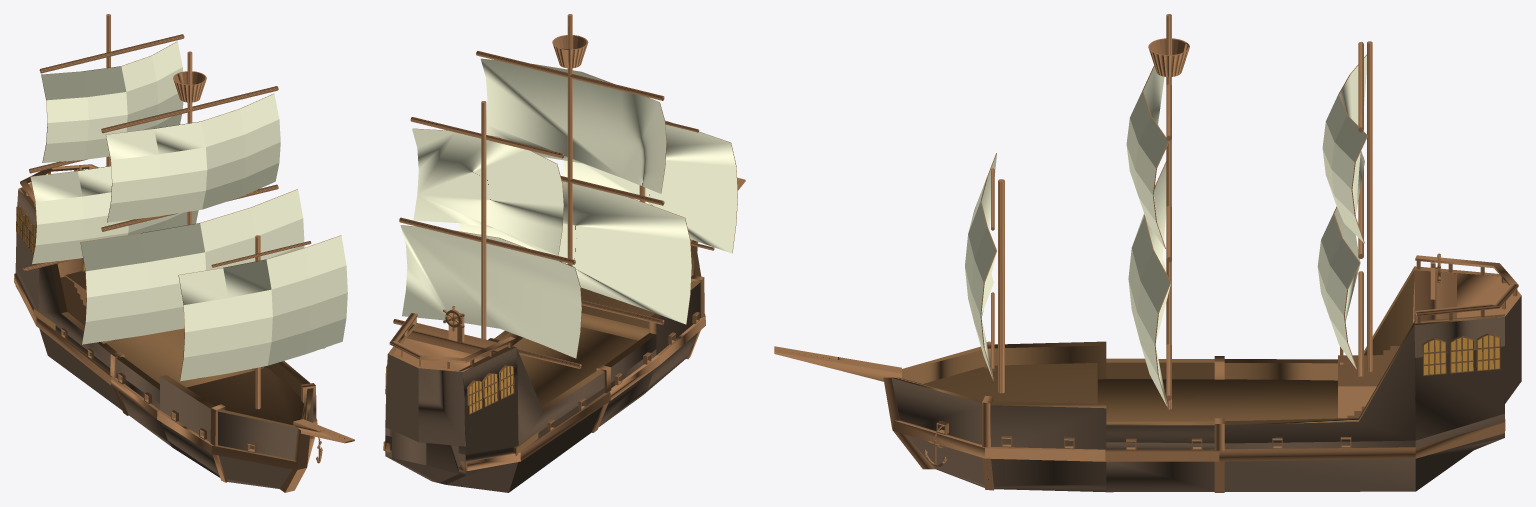
3 views of the same model, side by side, from view 1: azimuth 30°, elevation 25°; view 2: azimuth 150°, elevation 25°; view 3: azimuth 270°, elevation 25° (orthographic). The views are drawn at different scales.
Parts seen in each view (by area): view 1: sailing_ship; view 2: sailing_ship; view 3: sailing_ship.
Boxes of the visible parts, x1,y1,x2,y2 form: sailing_ship: (14,14,354,492); sailing_ship: (383,14,745,492); sailing_ship: (774,14,1521,492).
Bounding box in the file's own units: 645 × 1038 × 1557.
